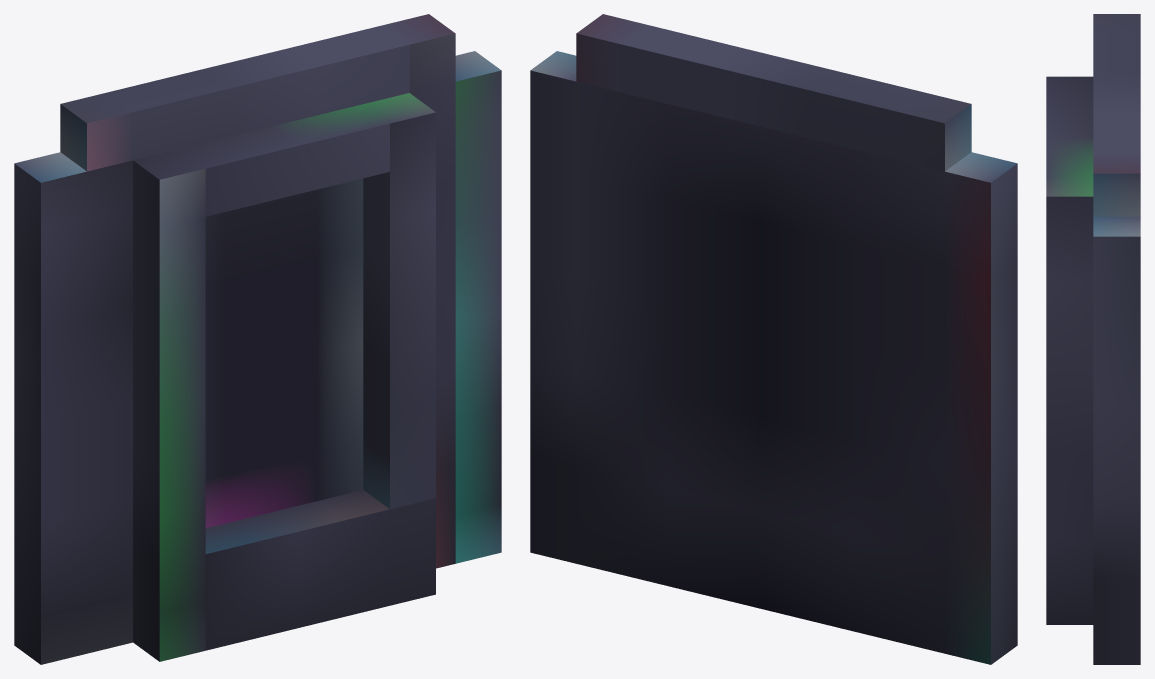
Rendered from Vent_I_00.fbx.
3 renders of one model, left to right at view 1: azimuth 30°, elevation 25°; view 2: azimuth 150°, elevation 25°; view 3: azimuth 270°, elevation 25°, orthographic. The views are drawn at different scales.
Visible parts, largest first — view 1: Vent_I_00; view 2: Vent_I_00; view 3: Vent_I_00.
Part boxes in pixels (left/top/right/bottom): Vent_I_00: left=14, top=14, right=501, bottom=664; Vent_I_00: left=530, top=14, right=1017, bottom=664; Vent_I_00: left=1046, top=14, right=1140, bottom=664.
Bounding box in the file's own units: 50 × 55 × 10.
